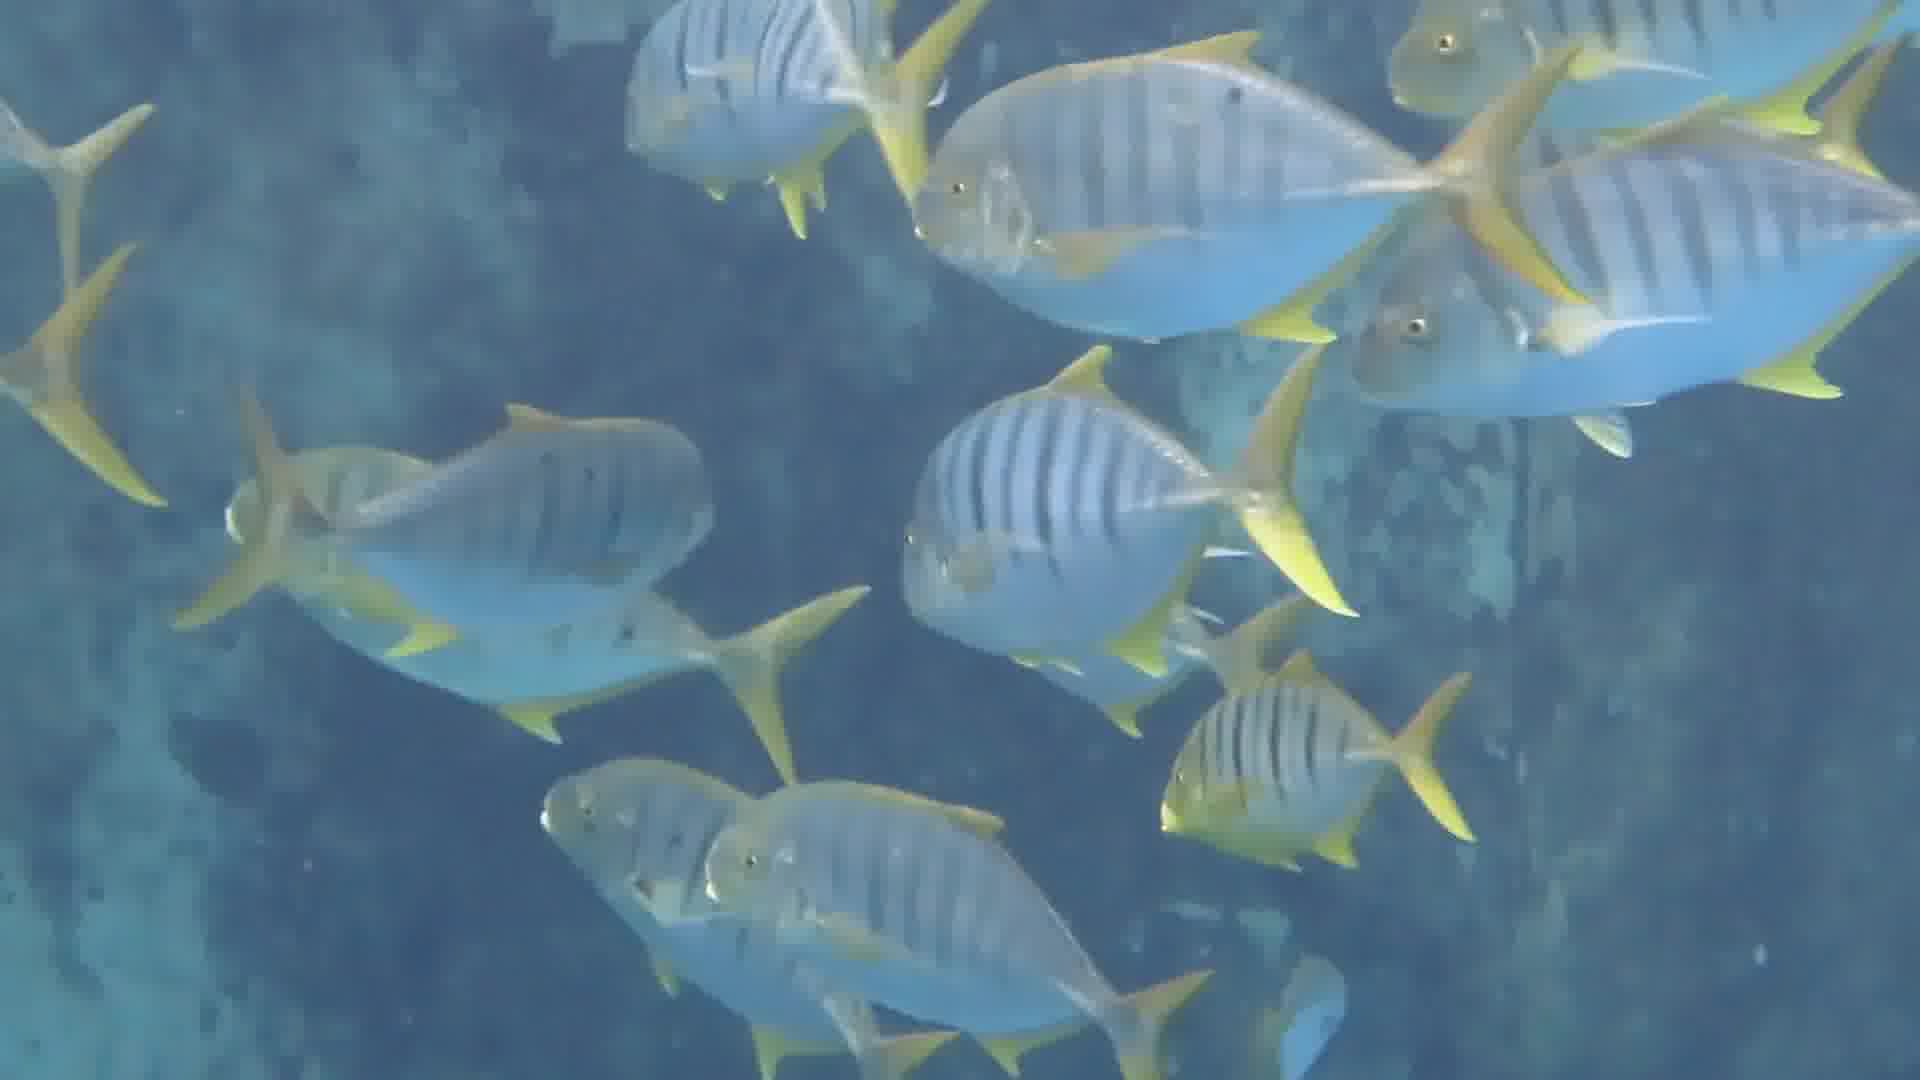Gnathanodon speciosus: (1335, 160, 1905, 404), (705, 781, 1171, 1065), (909, 76, 1393, 345), (520, 735, 880, 1073), (899, 364, 1288, 669), (1171, 642, 1494, 858), (1391, 4, 1884, 132)
